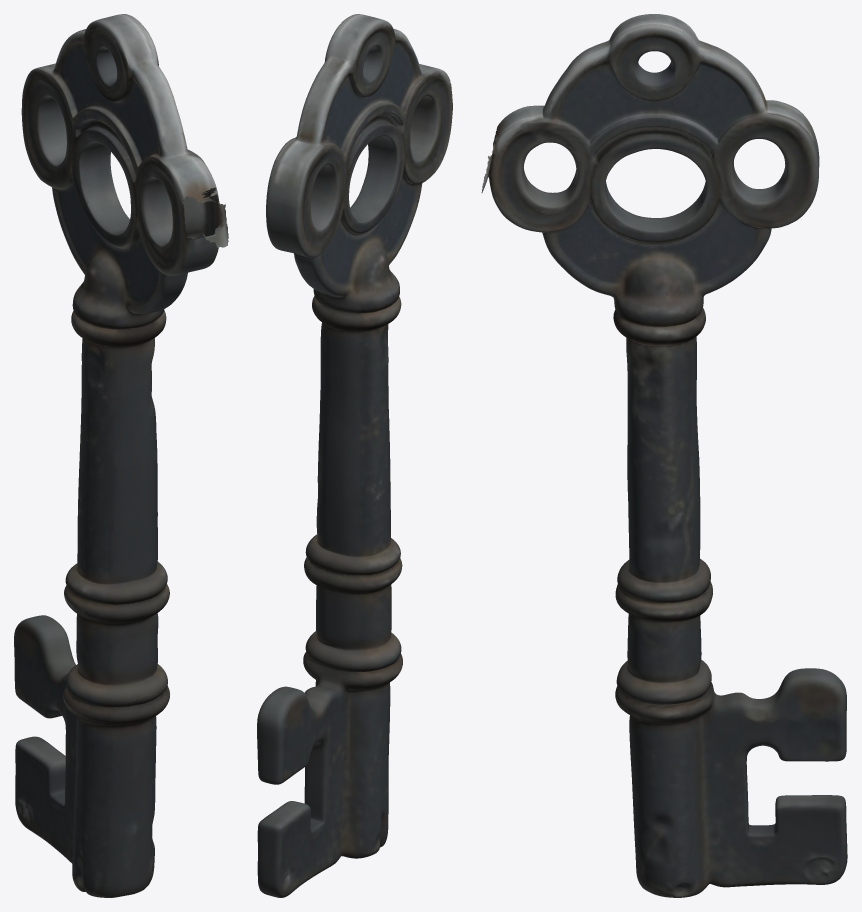
File: Key9.fbx
3 views of the same model, side by side, from view 1: azimuth 30°, elevation 25°; view 2: azimuth 150°, elevation 25°; view 3: azimuth 270°, elevation 25° (orthographic). The views are drawn at different scales.
Visible parts, largest first — view 1: tripo_node_c6a790f1.009; view 2: tripo_node_c6a790f1.009; view 3: tripo_node_c6a790f1.009.
Part boxes in pixels (x1,y1,x2,y2): tripo_node_c6a790f1.009: (14,14,228,897); tripo_node_c6a790f1.009: (257,14,452,897); tripo_node_c6a790f1.009: (481,14,847,897).
Bounding box in the file's own units: 4.79 × 43.08 × 16.52.
1 material, 1 textured.
